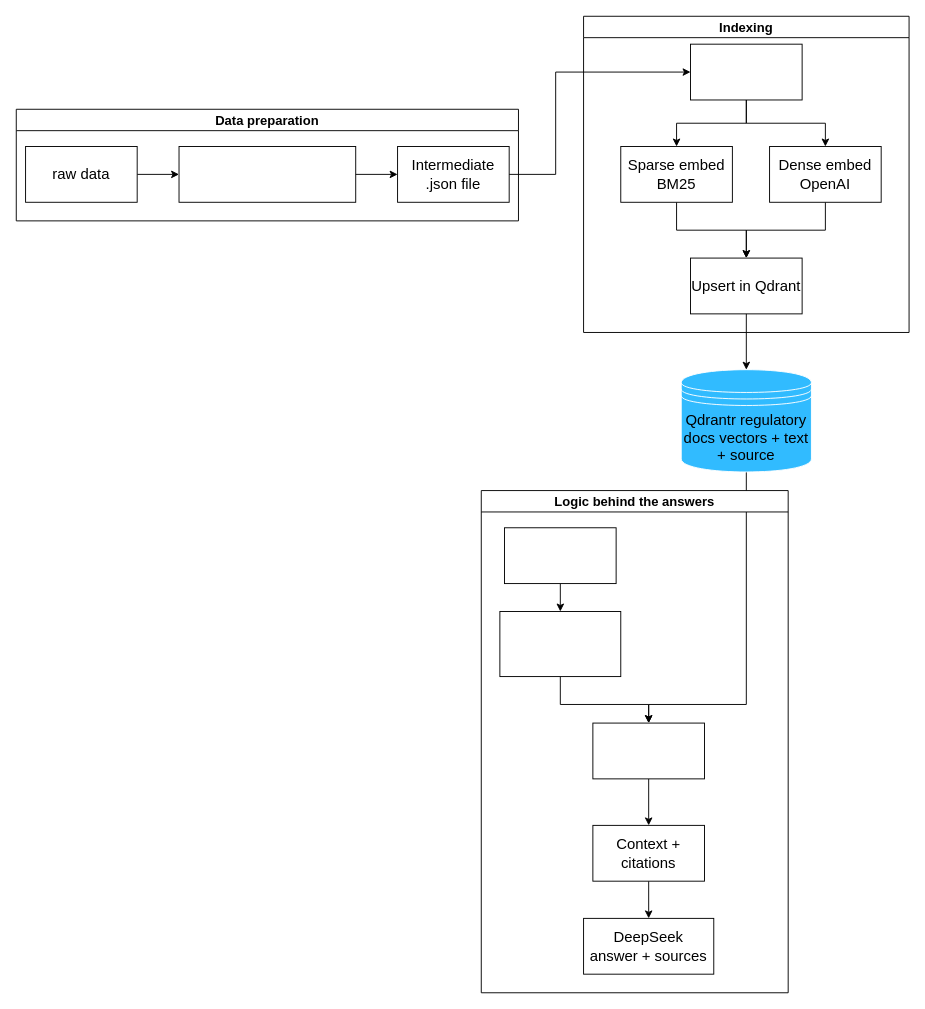
Image size: 925x1009. Some labels were removed from this diagram. The centre of each missing label's shape, as x and y in pixels:
"? Question" goes at point 560,555.
"Chunking" goes at point 746,71.
"Embed question dense + sparse" goes at point 560,644.
"Hybrid search top-k chunks" goes at point 648,750.
"Parse + dedupe" goes at point 267,174.
